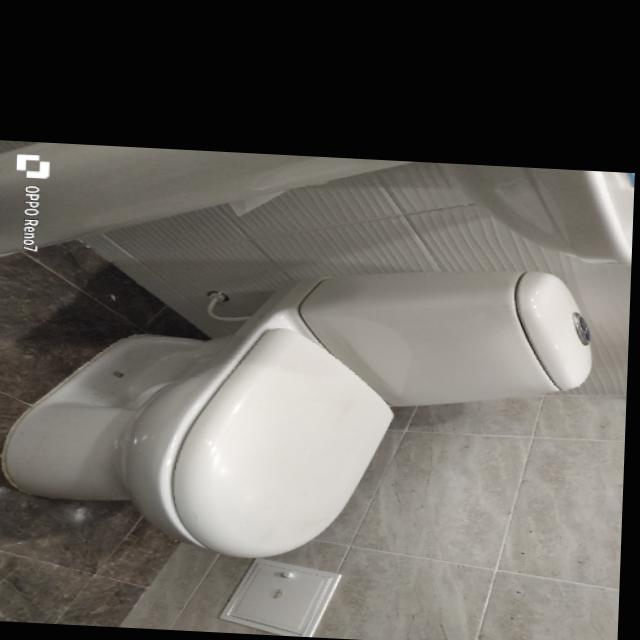toilet: (1, 242, 597, 570)
